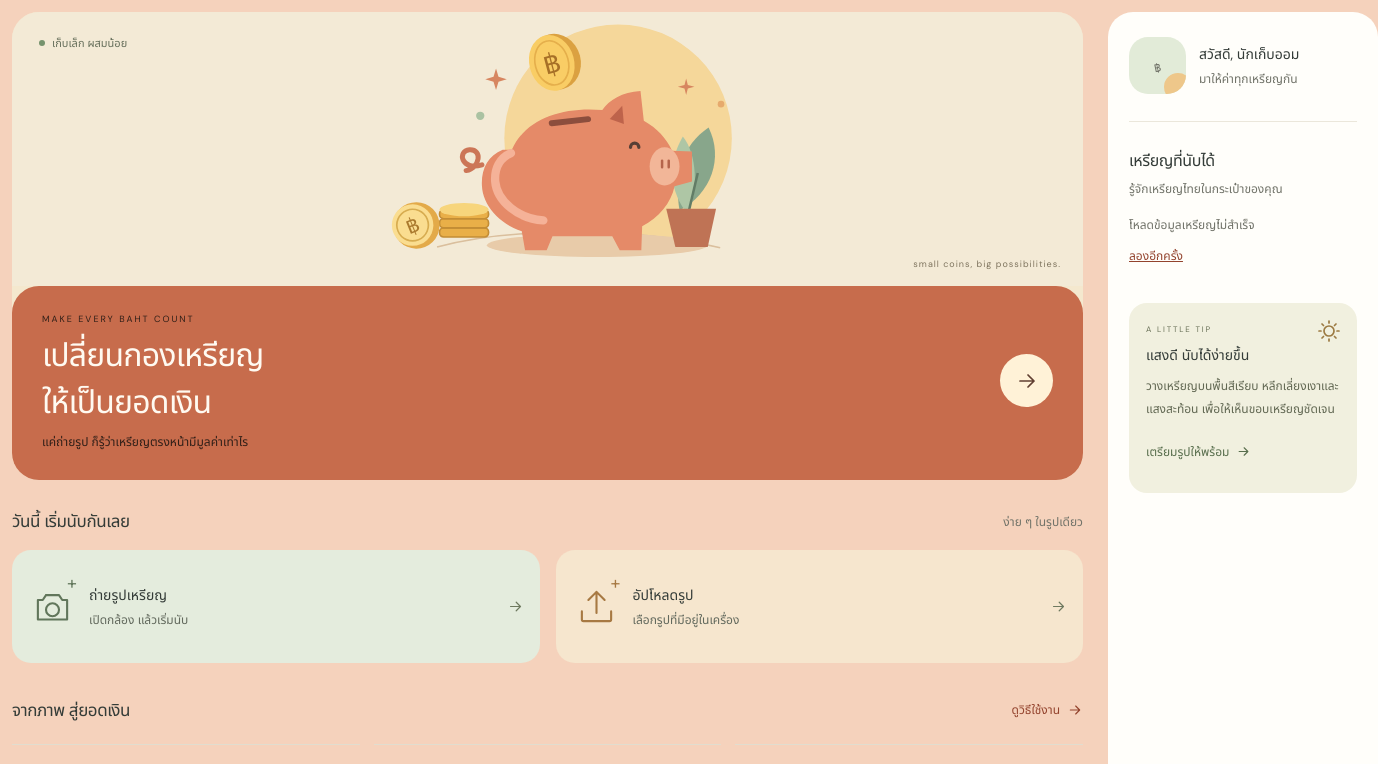
Test case: ข้อมูลเหรียญหน้าแรก › หน้าแรกใช้ชื่อและขนาดจาก API และลองใหม่ได้เมื่อโหลดไม่สำเร็จ
Click the button "ลองอีกครั้ง".
click(1156, 256)  # box [1129, 234, 1183, 278]
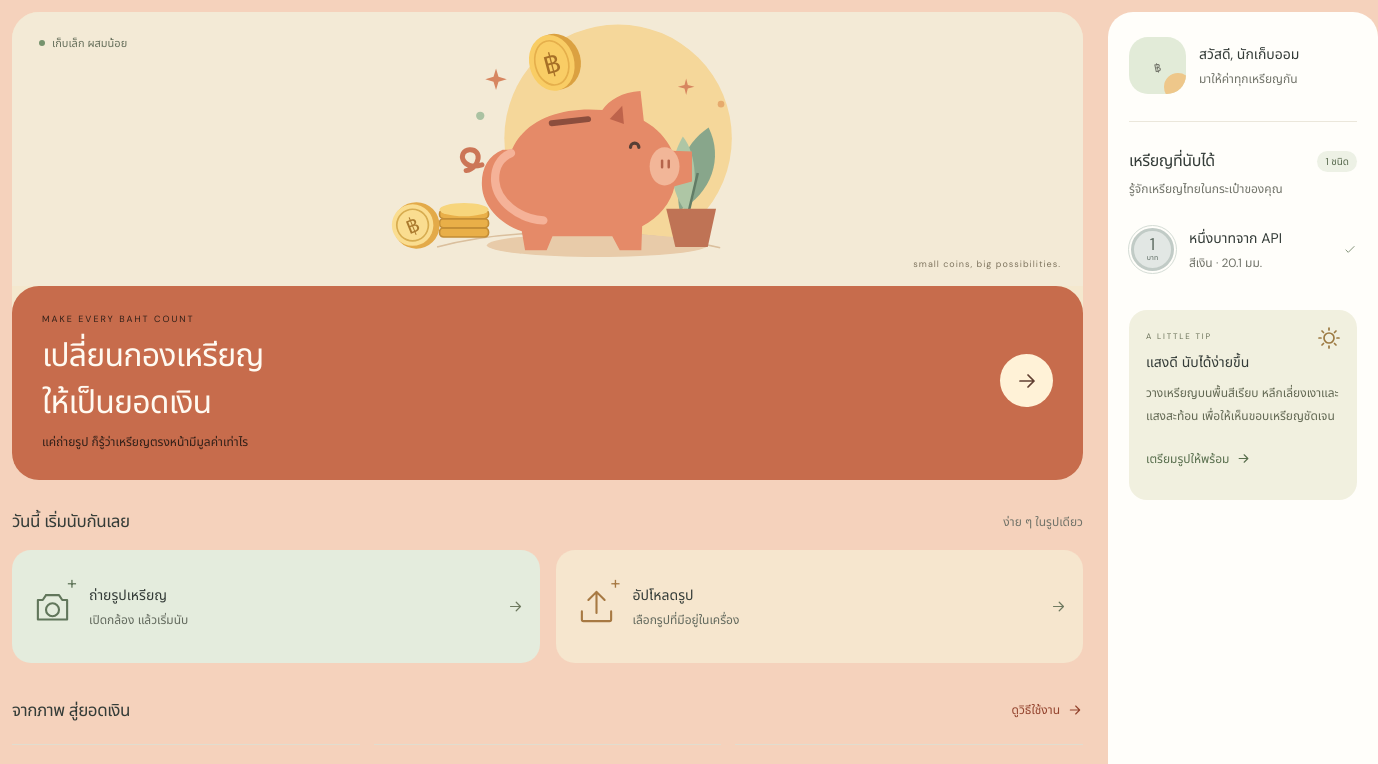
Now the heading "หนึ่งบาทจาก API" is shown, box [1189, 228, 1282, 248]
Now the text "สีเงิน · 20.1 มม." is shown, box [1189, 254, 1262, 270]
Now the text "1 ชนิด" is shown, box [1317, 150, 1357, 172]
